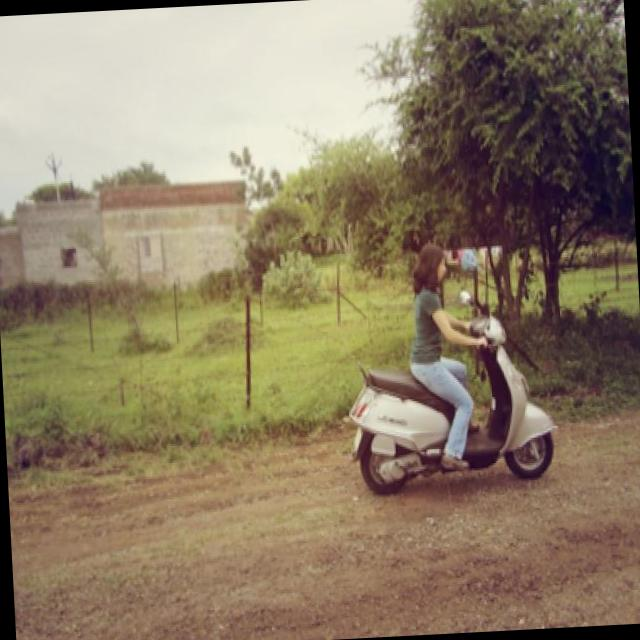bareface: (414, 244, 451, 290)
